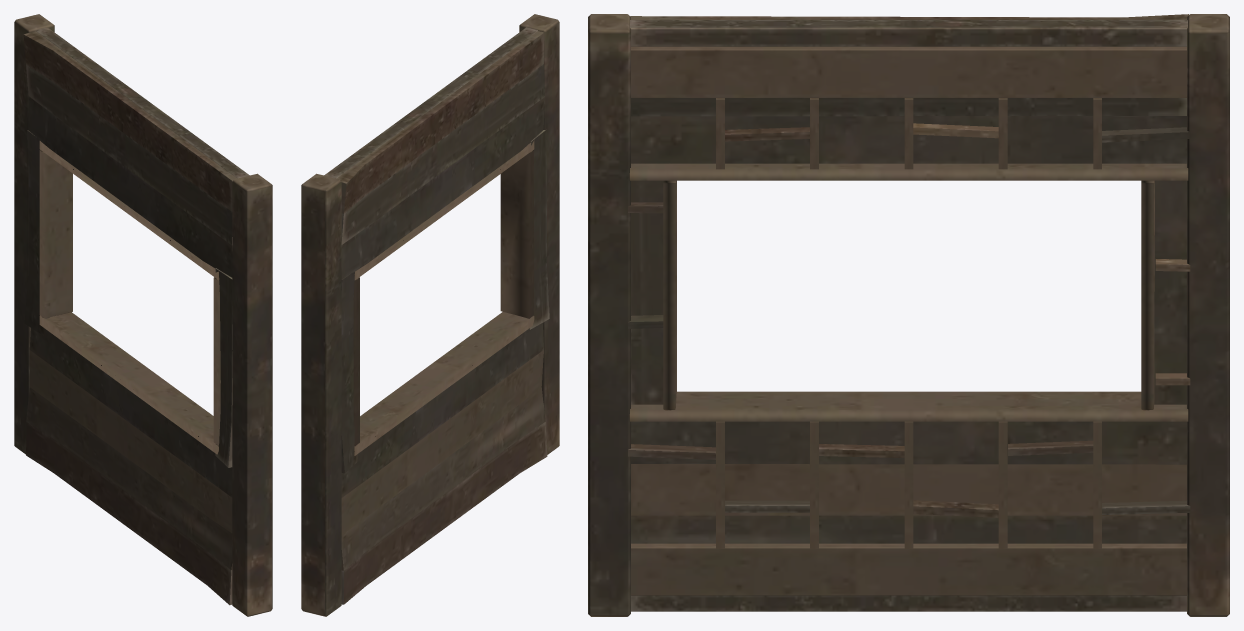
File: wall.window.frontier_variant_a.glb
The picture shows the model from 3 angles, left to right: view 1: azimuth 30°, elevation 25°; view 2: azimuth 150°, elevation 25°; view 3: azimuth 270°, elevation 25°; orthographic projection. The views are drawn at different scales.
Parts seen in each view (by area): view 1: wall.window_a_LOD0; view 2: wall.window_a_LOD0; view 3: wall.window_a_LOD0.
Part boxes in pixels (bbox=[...]): wall.window_a_LOD0: bbox=[14, 14, 272, 616]; wall.window_a_LOD0: bbox=[301, 14, 559, 616]; wall.window_a_LOD0: bbox=[588, 14, 1229, 616].
Size of the model in its own units: 0.2422 by 3.03 by 3.
Materials: 1 (1 with a texture image).
